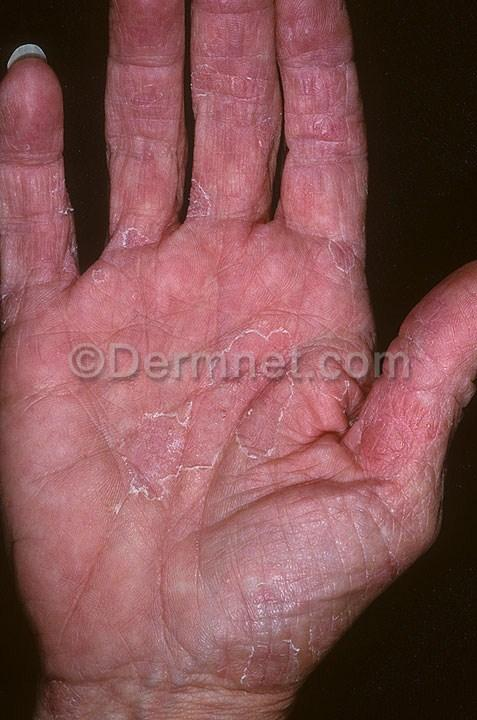Eczema: (108, 399, 252, 510), (225, 569, 322, 695), (291, 19, 359, 185), (115, 2, 187, 152), (212, 0, 284, 143), (8, 189, 77, 287), (352, 406, 442, 480), (306, 223, 377, 289), (1, 103, 65, 165), (181, 160, 233, 224), (112, 217, 166, 262)
